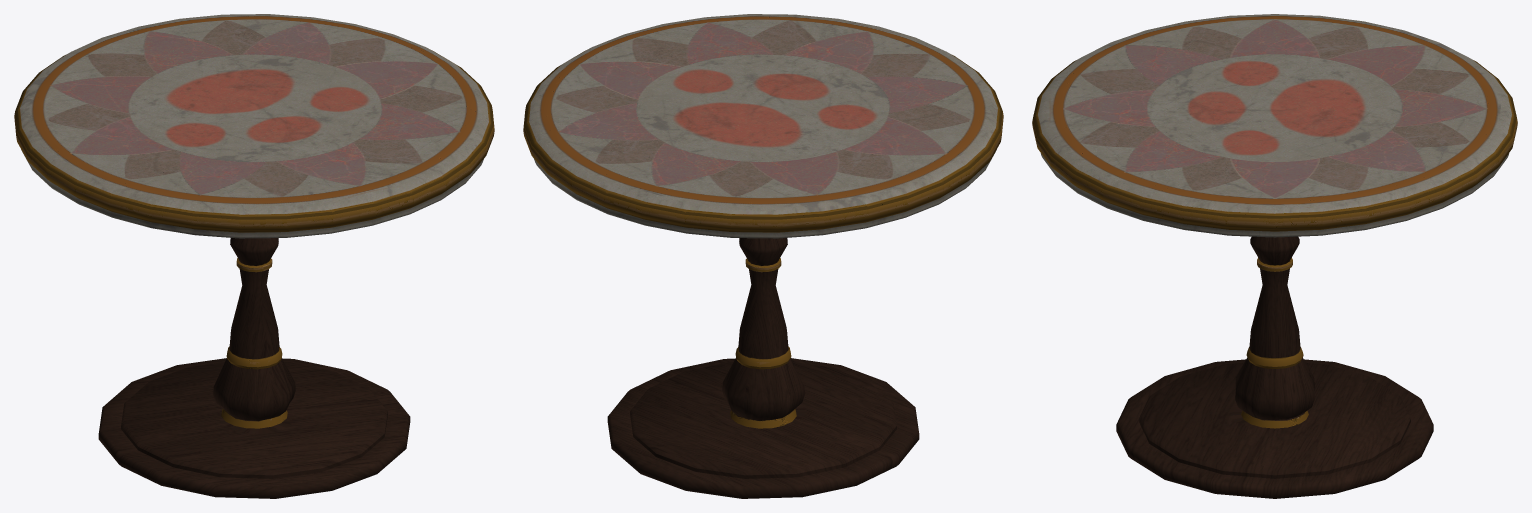
File: Modeling_Table_180613.FBX
3 renders of one model, left to right at view 1: azimuth 30°, elevation 25°; view 2: azimuth 150°, elevation 25°; view 3: azimuth 270°, elevation 25°, orthographic.
Visible parts, largest first — view 1: Object001; view 2: Object001; view 3: Object001.
Part boxes in pixels (bbox=[...]): Object001: bbox=[14, 14, 494, 498]; Object001: bbox=[523, 14, 1003, 498]; Object001: bbox=[1032, 14, 1517, 498].
Bounding box in the file's own units: 118 × 88.22 × 119.
